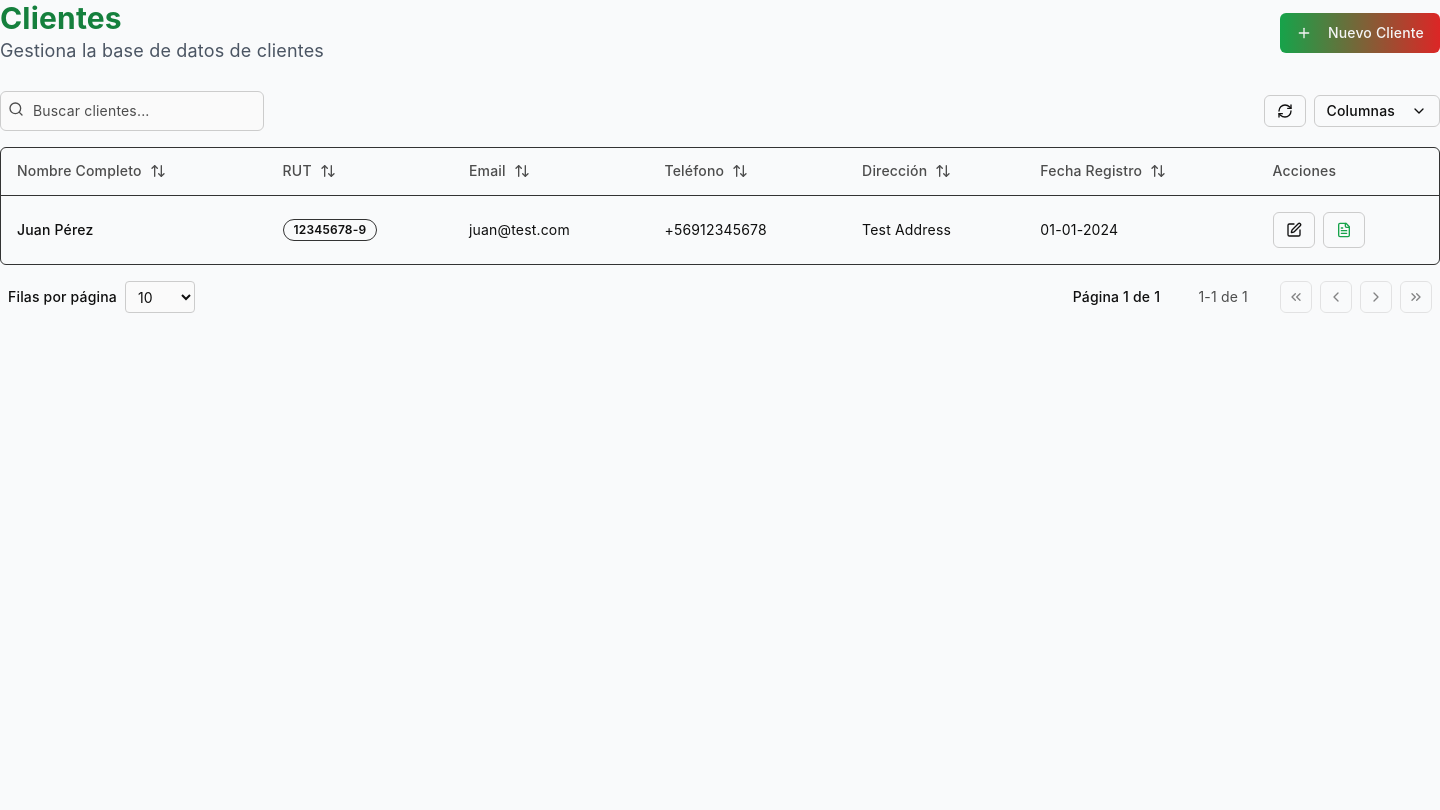
Test: ClientesPage › opens new client dialog when button clicked
Click the button "Nuevo Cliente" at {"x": 1360, "y": 33}, box [1280, 13, 1439, 53]
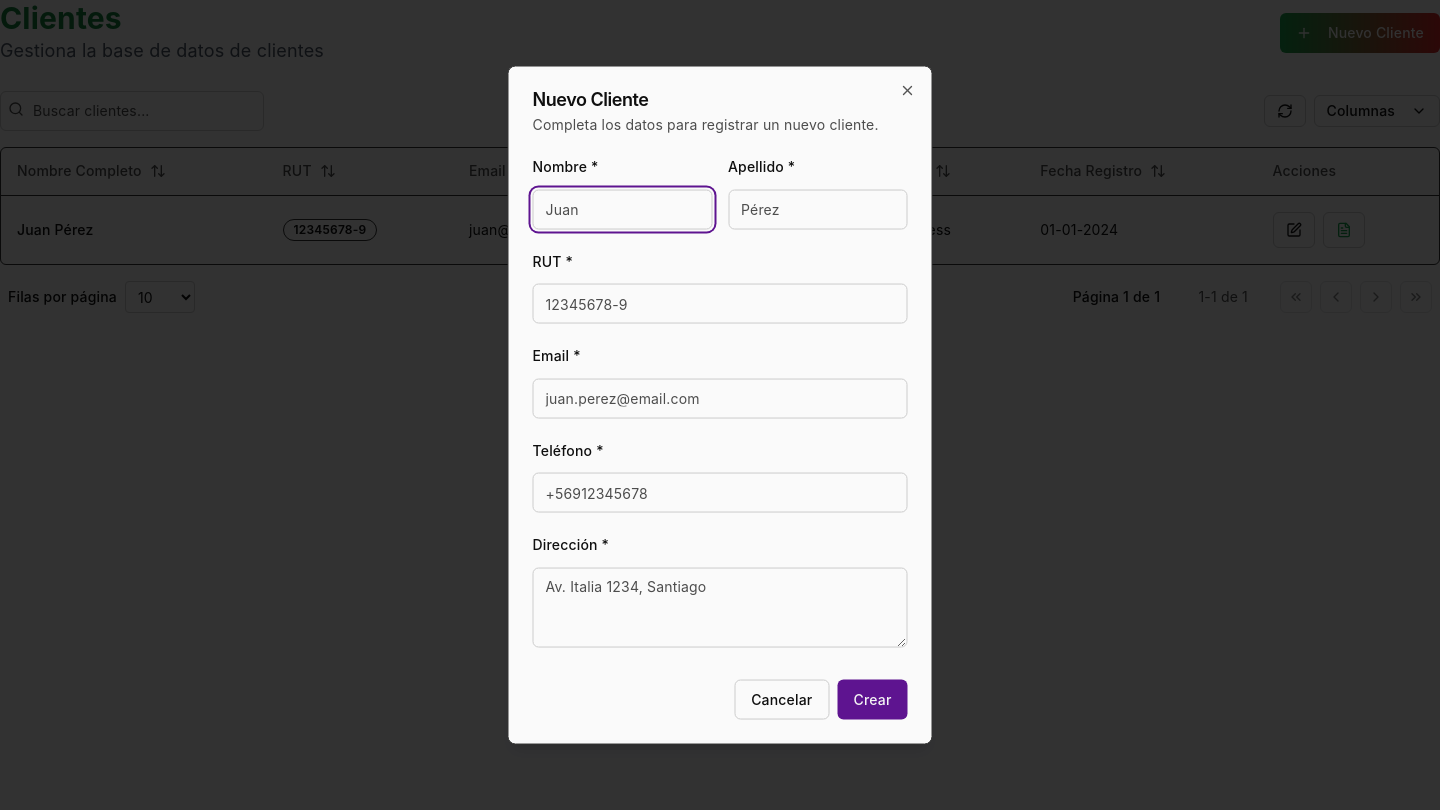
Expected: the text "Completa los datos para registrar un nuevo cliente." is shown, [532, 114, 908, 134]
